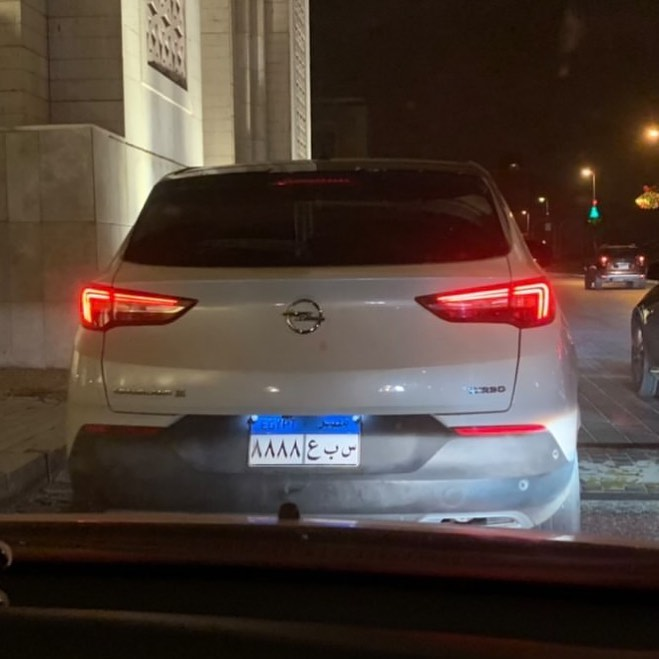carpl: (245, 406, 368, 474)
